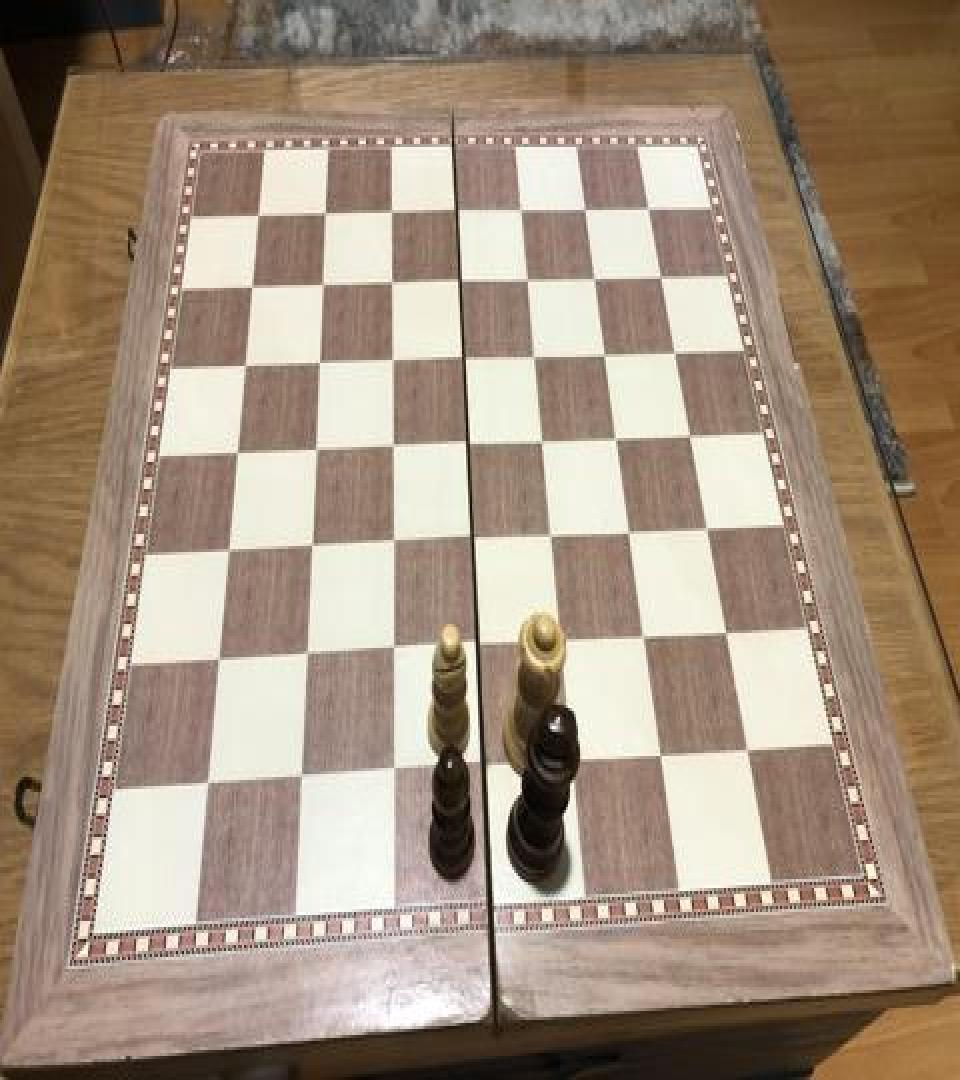xcorner: (637, 186, 661, 222), (508, 190, 532, 226), (443, 192, 467, 228), (377, 195, 401, 231), (312, 198, 336, 234), (245, 200, 269, 236), (649, 255, 673, 291), (581, 258, 605, 294), (446, 262, 470, 298), (377, 266, 401, 302), (308, 268, 332, 304), (239, 272, 263, 308), (662, 332, 686, 368), (591, 334, 615, 370), (520, 338, 544, 374), (449, 340, 473, 376), (304, 346, 328, 382), (231, 351, 255, 387), (677, 416, 701, 452), (603, 418, 627, 454), (528, 423, 552, 459), (452, 426, 476, 462), (300, 434, 324, 470), (223, 438, 247, 474), (693, 508, 717, 544), (615, 513, 639, 549), (536, 518, 560, 554), (456, 522, 480, 558), (376, 526, 400, 562), (295, 531, 319, 567), (214, 536, 238, 572), (712, 614, 736, 650), (629, 620, 653, 656), (545, 624, 569, 660), (461, 628, 485, 664), (376, 634, 400, 670), (290, 639, 314, 675), (203, 644, 227, 680), (732, 732, 756, 768), (644, 738, 668, 774), (555, 744, 579, 780), (466, 750, 490, 786), (375, 756, 399, 792), (284, 762, 308, 798), (191, 768, 215, 804), (572, 188, 596, 223), (514, 260, 538, 295), (377, 344, 401, 379), (376, 431, 400, 466)
